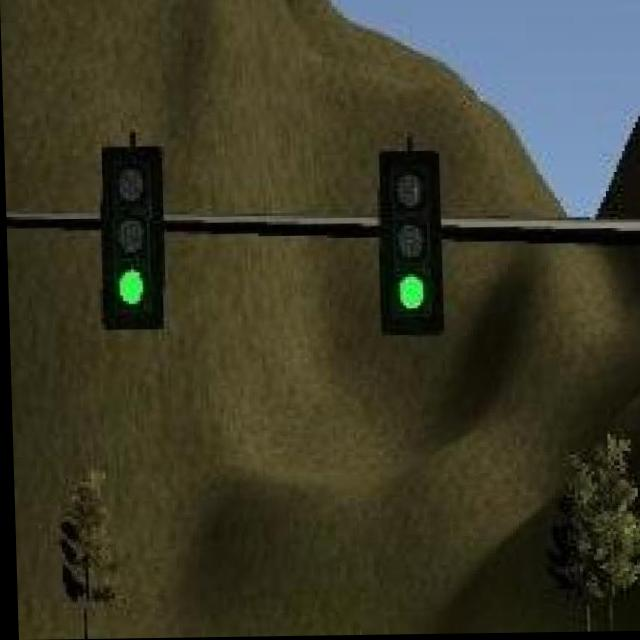green light: (378, 152, 445, 336), (100, 144, 165, 331)
